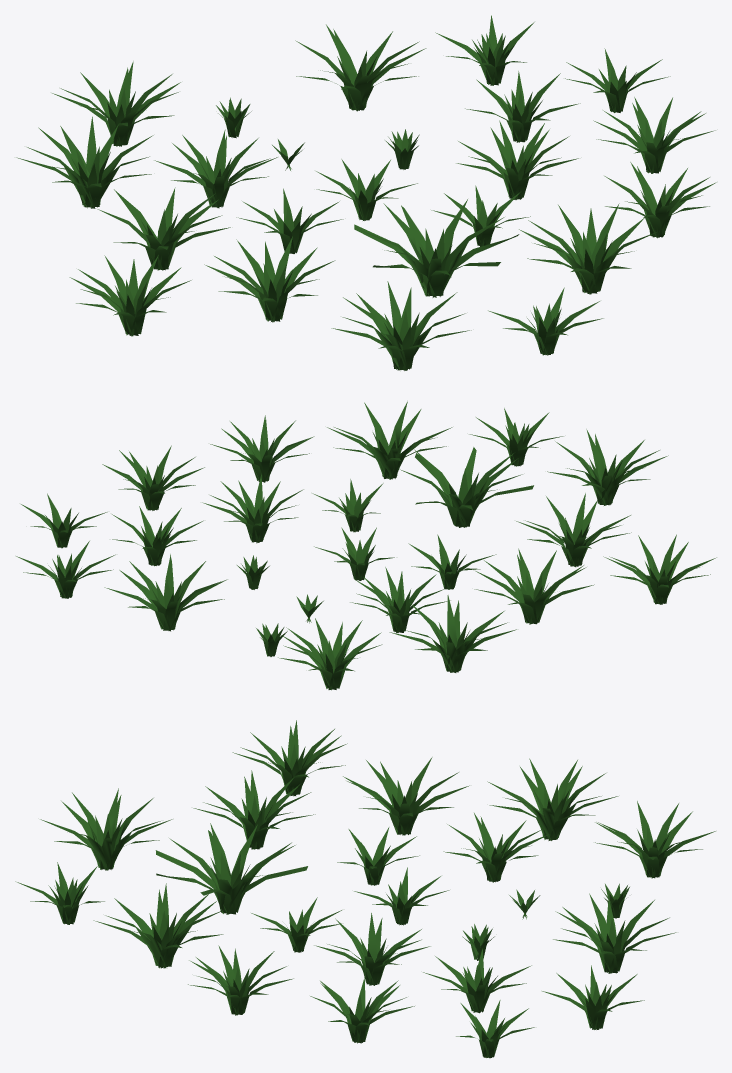
Rendered from SM_Grass_001_LOD3.fbx.
3 renders of one model, top to bottom at view 1: azimuth 30°, elevation 25°; view 2: azimuth 150°, elevation 25°; view 3: azimuth 270°, elevation 25°, orthographic. The views are drawn at different scales.
Visible parts, largest first — view 1: Grass; view 2: Grass; view 3: Grass.
Boxes of the visible parts, box(x1,y1,x2,y2) form: Grass: box(16, 15, 716, 370); Grass: box(16, 401, 716, 690); Grass: box(15, 720, 715, 1058).
Bounding box in the file's own units: 528 × 48.89 × 506.
